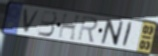B: (37, 10, 58, 38)
H: (56, 13, 83, 42)
I: (121, 21, 134, 49)
N: (99, 18, 125, 47)
R: (77, 15, 99, 44)
V: (23, 8, 42, 34)
